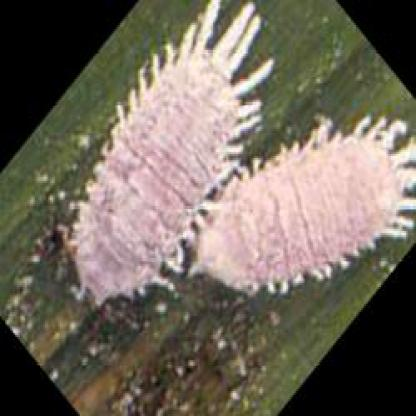mealy bug: (75, 2, 270, 308), (194, 117, 414, 293)
